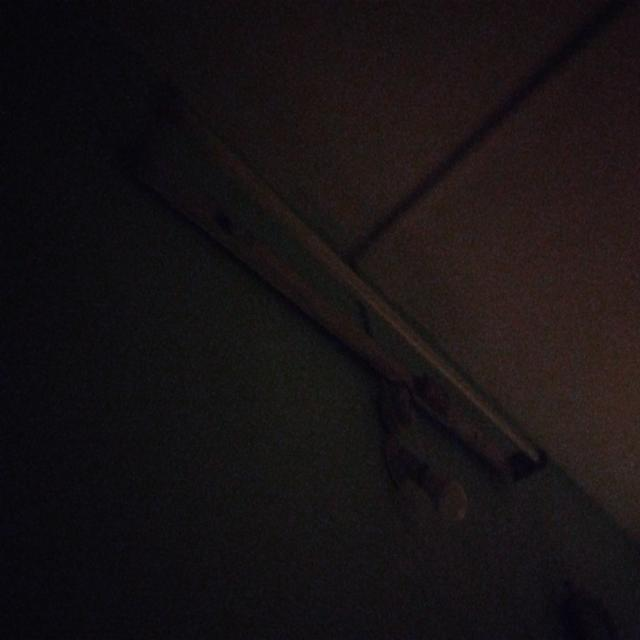tubelight_off: (108, 69, 556, 485)
